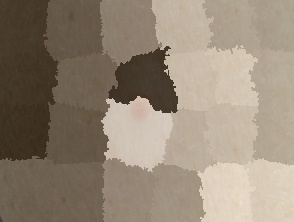vitiligo: (65, 36, 206, 168)
